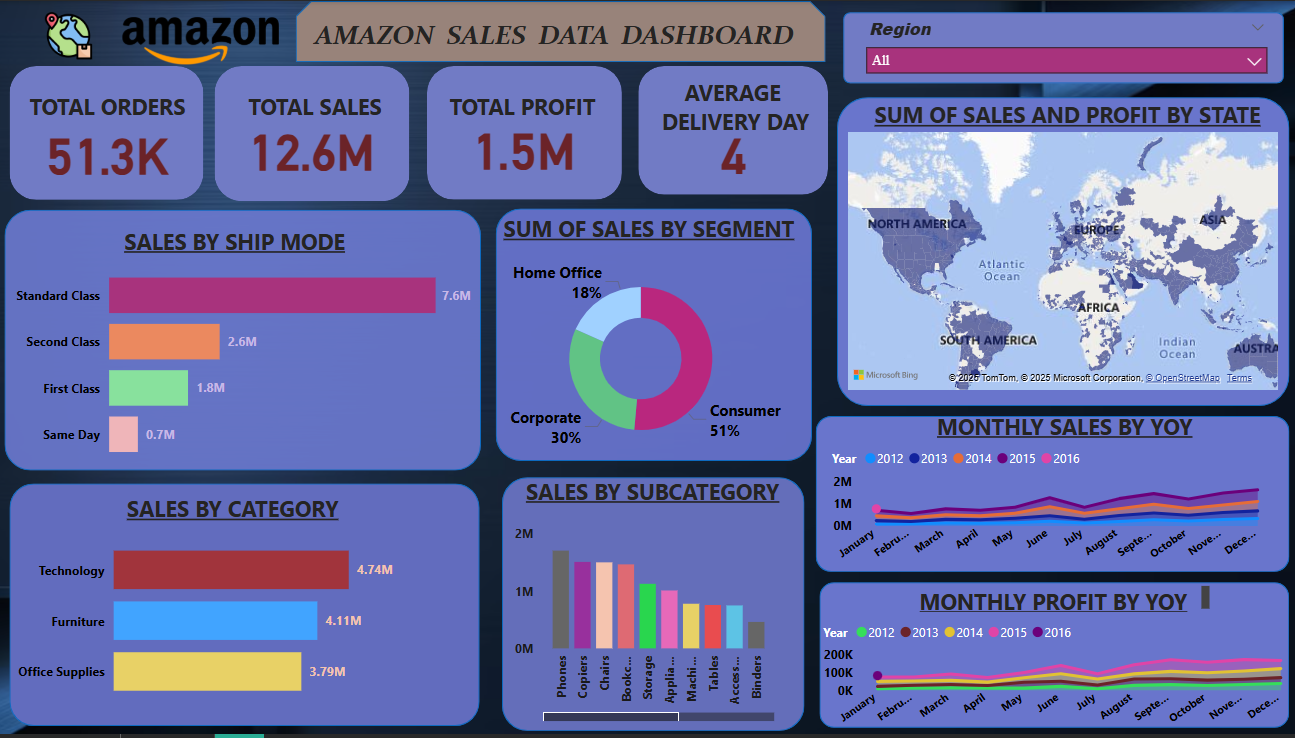

The page's visual inventory and layout, read from the dashboard file:
{"tool":"powerbi","page":{"name":"Page 1","canvas":[1280,720],"ordinal":0},"visuals":[{"type":"shape","box":[831.2,11.2,432.5,70],"z":0,"group":"g14"},{"type":"group","id":"g1","title":"Group 1","box":[12.3,63.8,234.4,131.3],"z":0},{"type":"shape","box":[422.1,63.8,191.4,131.3],"z":0,"group":"g3"},{"type":"shape","box":[489.4,203.7,310.4,247.9],"z":0,"group":"g6"},{"type":"shape","box":[7.1,204.9,467.7,255.9],"z":0,"group":"g5"},{"type":"shape","box":[803.7,406.7,465,153.1],"z":0,"group":"g9"},{"type":"shape","box":[495.7,467.5,296.9,249.1],"z":0,"group":"g8"},{"type":"shape","box":[12.3,473.6,461.4,238],"z":0,"group":"g7"},{"type":"shape","box":[807.4,570.3,461.1,142.9],"z":0,"group":"g10"},{"type":"group","id":"g2","title":"Group 2","box":[629.5,63.8,187.7,126.4],"z":1000},{"type":"shape","box":[629.5,63.8,186.3,126.4],"z":1000,"group":"g2"},{"type":"shape","box":[824.5,94.4,444.1,303.2],"z":1000,"group":"g11"},{"type":"donutChart","fields":{"Category":["Amazone data.Segment"],"Y":["Sum(Amazone data.Sales)"]},"box":[490.7,249.9,282.7,201.8],"z":1000,"group":"g6"},{"type":"clusteredBarChart","fields":{"Y":["Sum(Amazone data.Sales)"],"Category":["Amazone data.Category"]},"box":[15.1,506.2,381.6,197.5],"z":1000,"group":"g7"},{"type":"shape","box":[292.9,0,520.1,60],"z":1500,"group":"g13"},{"type":"textbox","box":[233.8,12.8,633.8,39.4],"z":2000,"group":"g13"},{"type":"shape","box":[12.3,63.8,190.3,131.5],"z":2000,"group":"g1"},{"type":"shape","box":[213.5,63.8,191.4,132.8],"z":2000,"group":"g4"},{"type":"group","id":"g3","title":"Group 3","box":[422.1,63.8,240.5,131.3],"z":2000},{"type":"filledMap","fields":{"Category":["Amazone data.State"]},"box":[830.1,124.5,431.2,262.5],"z":2000,"group":"g11"},{"type":"textbox","box":[447.9,203.7,384.1,39.3],"z":2000,"group":"g6"},{"type":"textbox","box":[23.6,477.9,416,207.4],"z":2000,"group":"g7"},{"type":"group","id":"g4","title":"Group 5","box":[213.5,63.8,241.7,135],"z":3000},{"type":"textbox","box":[856.6,92,423.1,45.8],"z":3000,"group":"g11"},{"type":"group","id":"g5","title":"Group 6","box":[0,204.9,474.8,262.6],"z":4000},{"type":"card","fields":{"Values":["Amazone data.Total_sales"]},"box":[229.5,90.1,158.3,108.6],"z":5000,"group":"g4"},{"type":"group","id":"g6","title":"Group 7","box":[447.9,203.7,384.1,248],"z":5000},{"type":"card","fields":{"Values":["Amazone data.Total_profit"]},"box":[434.4,94.2,165.6,95.5],"z":6000,"group":"g3"},{"type":"card","fields":{"Values":["Amazone data.Total_orders"]},"box":[41.1,112,134.2,68.7],"z":6000,"group":"g12"},{"type":"group","id":"g7","title":"Group 8","box":[12.3,473.6,461.4,238],"z":6000},{"type":"textbox","box":[27.4,83.1,219.1,63.9],"z":7000,"group":"g12"},{"type":"card","fields":{"Values":["Amazone data.Avg_del_date"]},"box":[683.6,119.7,79.3,54.9],"z":7000,"group":"g2"},{"type":"clusteredBarChart","fields":{"Category":["Amazone data.Ship Mode"],"Y":["Sum(Amazone data.Sales)"]},"box":[11.8,240.4,458.3,227.1],"z":7000,"group":"g5"},{"type":"group","id":"g8","title":"Group 9","box":[495.7,467.5,296.9,249.1],"z":7000},{"type":"textbox","box":[0,216,466.6,47.6],"z":8000,"group":"g5"},{"type":"textbox","box":[482.2,461.4,322.7,40.5],"z":8000},{"type":"textbox","box":[241.7,83.6,213.5,59.3],"z":9000,"group":"g4"},{"type":"group","id":"g9","title":"Group 10","box":[803.7,397.5,465,162.5],"z":9000},{"type":"textbox","box":[439.3,83.3,223.3,42.3],"z":10000,"group":"g3"},{"type":"clusteredColumnChart","fields":{"Y":["Sum(Amazone data.Sales)"],"Category":["Amazone data.Sub-Category"]},"box":[502.5,509.2,265,202.5],"z":10000,"group":"g8"},{"type":"group","id":"g10","title":"Group 11","box":[806.1,569.3,473.6,150.9],"z":10000},{"type":"textbox","box":[633.4,69.9,183.9,72.6],"z":11000,"group":"g2"},{"type":"group","id":"g11","title":"Group 12","box":[824.5,92,455.2,305.5],"z":11000},{"type":"group","id":"g12","title":"Group 4","box":[27.4,83.1,219.1,97.7],"z":11003,"group":"g1"},{"type":"group","id":"g13","title":"Group 13","box":[233.8,0,633.8,60],"z":12000},{"type":"group","id":"g14","title":"Group 14","box":[831.2,11.2,432.5,70],"z":13000},{"type":"stackedAreaChart","fields":{"Category":["Amazone data.Ship Date.Variation.Date Hierarchy.Month"],"Y":["Sum(Amazone data.Sales)"],"Series":["Amazone data.Ship Date.Variation.Date Hierarchy.Year"]},"box":[815.1,430,441.7,130.1],"z":13000,"group":"g9"},{"type":"image","box":[66.2,11.2,267.5,56.2],"z":14000},{"type":"stackedAreaChart","fields":{"Y":["Sum(Amazone data.Profit)"],"Category":["Amazone data.Ship Date.Variation.Date Hierarchy.Month"],"Series":["Amazone data.Ship Date.Variation.Date Hierarchy.Year"]},"box":[806.1,599.5,473.6,120.7],"z":14000,"group":"g10"},{"type":"textbox","box":[918.2,397.5,341.1,40.5],"z":14001,"group":"g9"},{"type":"image","box":[27.5,6.2,86.2,56.2],"z":15000},{"type":"textbox","box":[900.1,569.3,294.4,35.2],"z":15000,"group":"g10"},{"type":"slicer","fields":{"Values":["Amazone data.Region"]},"box":[842.5,11.2,413.8,70],"z":16000}]}

Visuals, with their boxes in screenshot pixels (x1, y1, x2, y2), scaled from the page's 1280x720 canvas onto the 1295x738 screenshot:
shape: [x1=841, y1=11, x2=1279, y2=83]
"Group 1" group: [x1=12, y1=65, x2=250, y2=200]
shape: [x1=427, y1=65, x2=621, y2=200]
shape: [x1=495, y1=209, x2=809, y2=463]
shape: [x1=7, y1=210, x2=480, y2=472]
shape: [x1=813, y1=417, x2=1284, y2=574]
shape: [x1=502, y1=479, x2=802, y2=735]
shape: [x1=12, y1=485, x2=479, y2=729]
shape: [x1=817, y1=585, x2=1283, y2=731]
"Group 2" group: [x1=637, y1=65, x2=827, y2=195]
shape: [x1=637, y1=65, x2=825, y2=195]
shape: [x1=834, y1=97, x2=1283, y2=408]
donutChart - Amazone data.Segment x Sum(Amazone data.Sales): [x1=496, y1=256, x2=782, y2=463]
clusteredBarChart - Sum(Amazone data.Sales) x Amazone data.Category: [x1=15, y1=519, x2=401, y2=721]
shape: [x1=296, y1=0, x2=823, y2=61]
textbox: [x1=237, y1=13, x2=878, y2=54]
shape: [x1=12, y1=65, x2=205, y2=200]
shape: [x1=216, y1=65, x2=410, y2=202]
"Group 3" group: [x1=427, y1=65, x2=670, y2=200]
filledMap - Amazone data.State: [x1=840, y1=128, x2=1276, y2=397]
textbox: [x1=453, y1=209, x2=842, y2=249]
textbox: [x1=24, y1=490, x2=445, y2=702]
"Group 5" group: [x1=216, y1=65, x2=461, y2=204]
textbox: [x1=867, y1=94, x2=1294, y2=141]
"Group 6" group: [x1=0, y1=210, x2=480, y2=479]
card - Amazone data.Total_sales: [x1=232, y1=92, x2=392, y2=204]
"Group 7" group: [x1=453, y1=209, x2=842, y2=463]
card - Amazone data.Total_profit: [x1=439, y1=97, x2=607, y2=194]
card - Amazone data.Total_orders: [x1=42, y1=115, x2=177, y2=185]
"Group 8" group: [x1=12, y1=485, x2=479, y2=729]
textbox: [x1=28, y1=85, x2=249, y2=151]
card - Amazone data.Avg_del_date: [x1=692, y1=123, x2=772, y2=179]
clusteredBarChart - Amazone data.Ship Mode x Sum(Amazone data.Sales): [x1=12, y1=246, x2=476, y2=479]
"Group 9" group: [x1=502, y1=479, x2=802, y2=735]
textbox: [x1=0, y1=221, x2=472, y2=270]
textbox: [x1=488, y1=473, x2=814, y2=514]
textbox: [x1=245, y1=86, x2=461, y2=146]
"Group 10" group: [x1=813, y1=407, x2=1284, y2=574]
textbox: [x1=444, y1=85, x2=670, y2=129]
clusteredColumnChart - Sum(Amazone data.Sales) x Amazone data.Sub-Category: [x1=508, y1=522, x2=776, y2=729]
"Group 11" group: [x1=816, y1=584, x2=1294, y2=737]
textbox: [x1=641, y1=72, x2=827, y2=146]
"Group 12" group: [x1=834, y1=94, x2=1294, y2=407]
"Group 4" group: [x1=28, y1=85, x2=249, y2=185]
"Group 13" group: [x1=237, y1=0, x2=878, y2=61]
"Group 14" group: [x1=841, y1=11, x2=1279, y2=83]
stackedAreaChart - Amazone data.Ship Date.Variation.Date Hierarchy.Month x Sum(Amazone data.Sales): [x1=825, y1=441, x2=1272, y2=574]
image: [x1=67, y1=11, x2=338, y2=69]
stackedAreaChart - Sum(Amazone data.Profit) x Amazone data.Ship Date.Variation.Date Hierarchy.Month: [x1=816, y1=614, x2=1294, y2=737]
textbox: [x1=929, y1=407, x2=1274, y2=449]
image: [x1=28, y1=6, x2=115, y2=64]
textbox: [x1=911, y1=584, x2=1208, y2=620]
slicer - Amazone data.Region: [x1=852, y1=11, x2=1271, y2=83]
